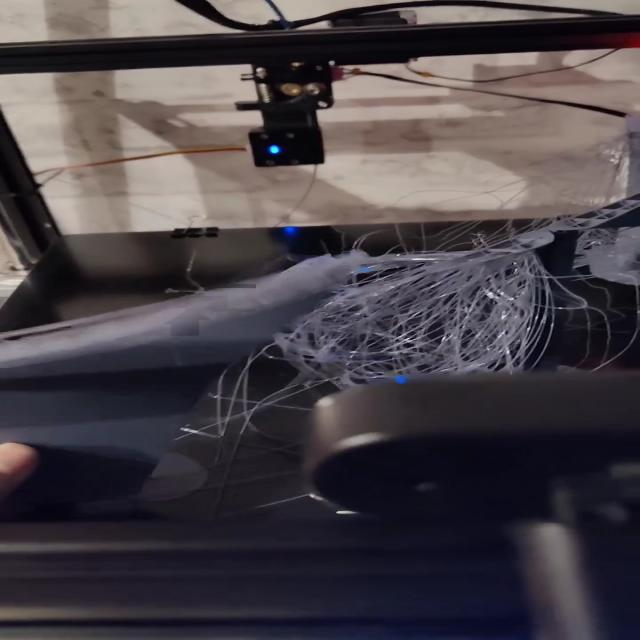spaghetti: (243, 234, 572, 388)
